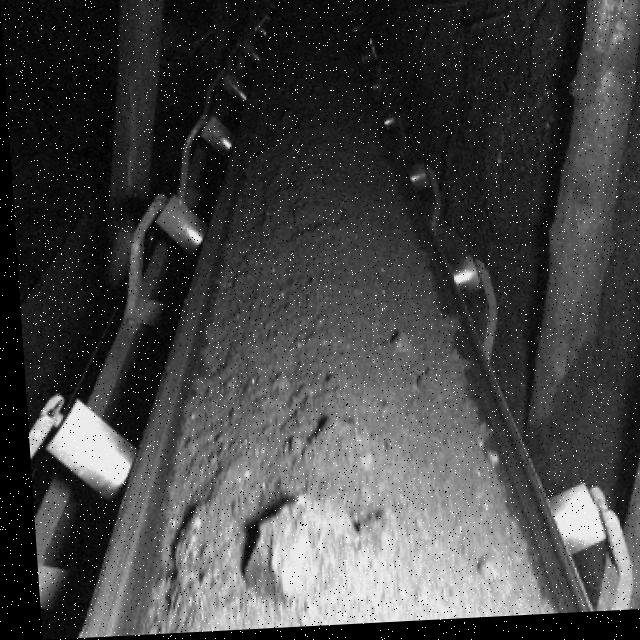large_sized_coal: (236, 489, 357, 598)
